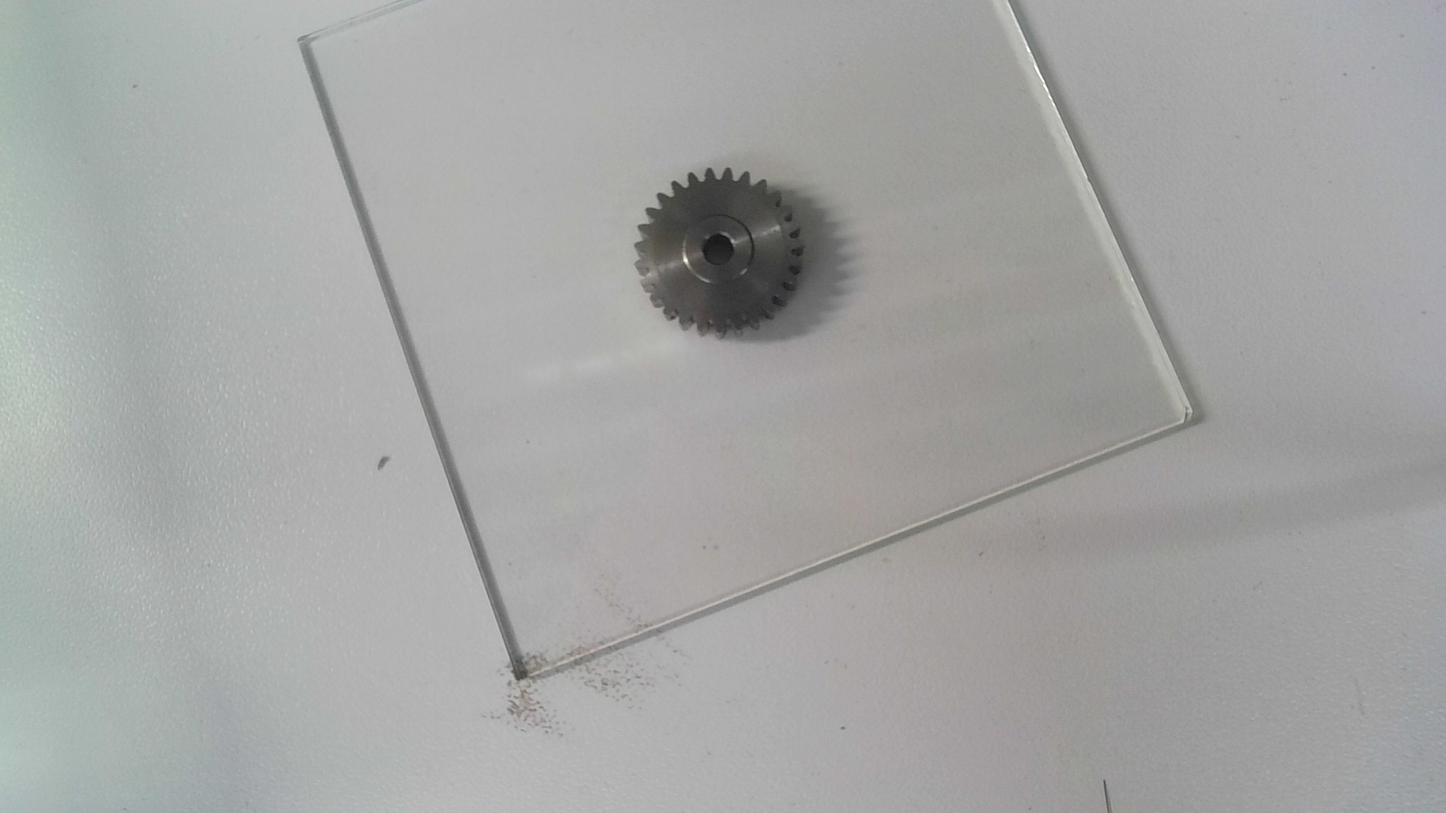gear: (630, 164, 808, 342)
